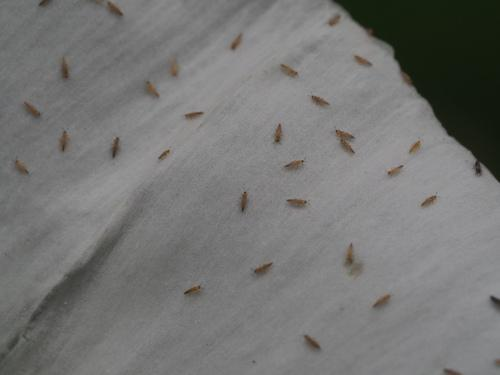tiny_pests: (292, 320, 333, 358), (361, 280, 401, 318), (16, 90, 53, 128), (242, 252, 285, 283), (50, 54, 86, 91), (378, 154, 416, 187), (99, 123, 129, 164), (396, 129, 428, 166), (51, 124, 84, 158), (336, 232, 367, 267), (273, 55, 305, 88), (5, 148, 36, 182), (135, 75, 170, 104), (333, 135, 363, 167), (174, 274, 208, 302), (161, 51, 191, 82), (418, 183, 445, 216), (332, 121, 367, 143), (283, 188, 311, 215), (352, 50, 379, 78), (304, 88, 334, 113), (225, 29, 250, 57), (274, 155, 308, 174), (151, 141, 179, 164), (234, 184, 252, 216), (178, 104, 207, 123), (271, 122, 286, 145)
